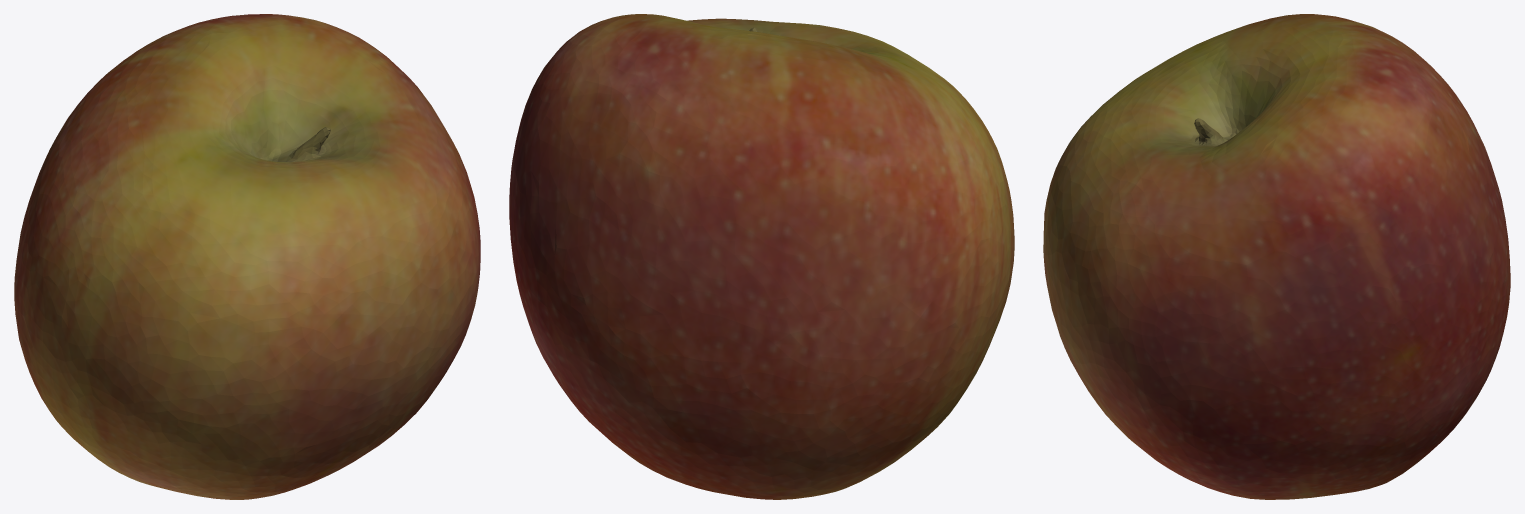
Rendered from Apple.obj.
The picture shows the model from 3 angles, left to right: view 1: azimuth 30°, elevation 25°; view 2: azimuth 150°, elevation 25°; view 3: azimuth 270°, elevation 25°; orthographic projection. The views are drawn at different scales.
Parts seen in each view (by area): view 1: Simplified_deviation_0.05; view 2: Simplified_deviation_0.05; view 3: Simplified_deviation_0.05.
Part boxes in pixels (x1,y1,x2,y2): Simplified_deviation_0.05: (14, 14, 480, 499); Simplified_deviation_0.05: (509, 14, 1014, 499); Simplified_deviation_0.05: (1043, 14, 1510, 499).
Bounding box in the file's own units: 0.0733 × 0.0716 × 0.0701.
Materials: 1 (1 with a texture image).
